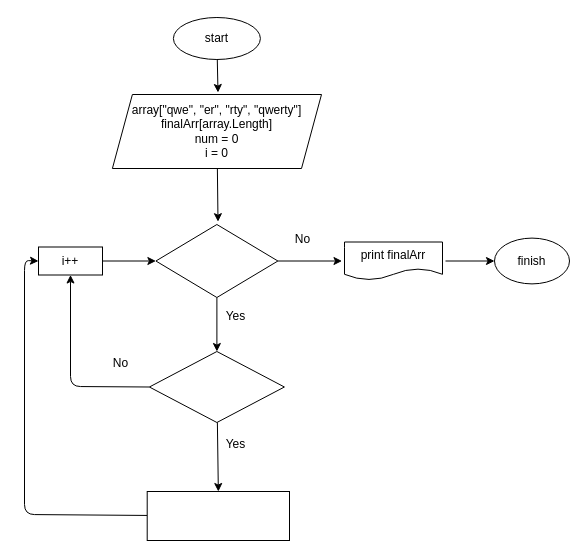
Image size: 587x558. Some labels were removed from this diagram. Each missing label, with the box of its shape:
array[i].Length <=3?: (148, 350, 284, 422)
finalArr[num] = array[i] num++: (146, 490, 290, 540)
i < array.Length: (155, 224, 278, 298)
